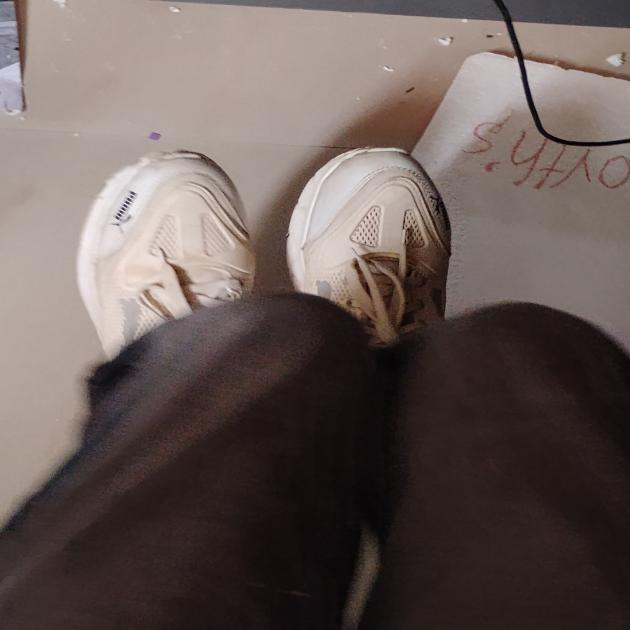shoes: (37, 125, 522, 389)
